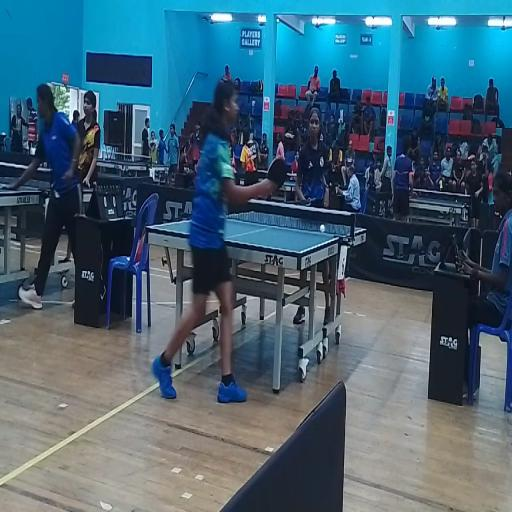ball: (320, 226, 325, 234)
